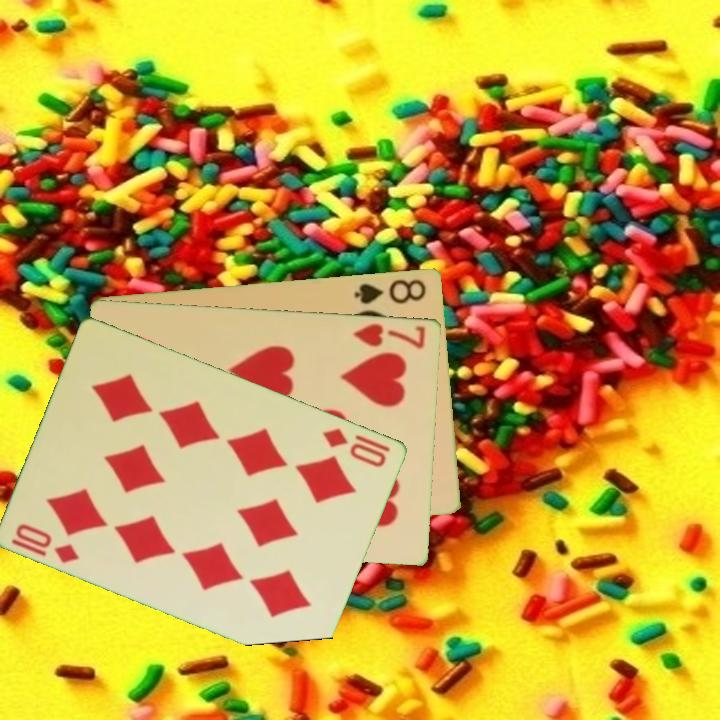10d: (319, 423, 394, 470), (12, 520, 83, 567)
7h: (350, 320, 429, 351)
8s: (351, 275, 429, 306)
